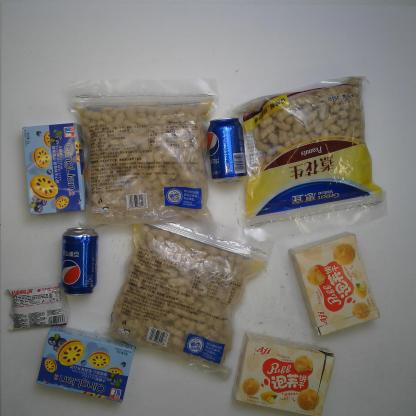Dessert: (287, 230, 382, 338), (230, 329, 337, 415), (32, 324, 136, 404), (20, 121, 88, 217), (3, 282, 70, 336)
Dried Food: (92, 222, 274, 382), (232, 76, 390, 246), (67, 74, 219, 234)
Drink: (56, 224, 101, 297), (206, 114, 251, 186)
